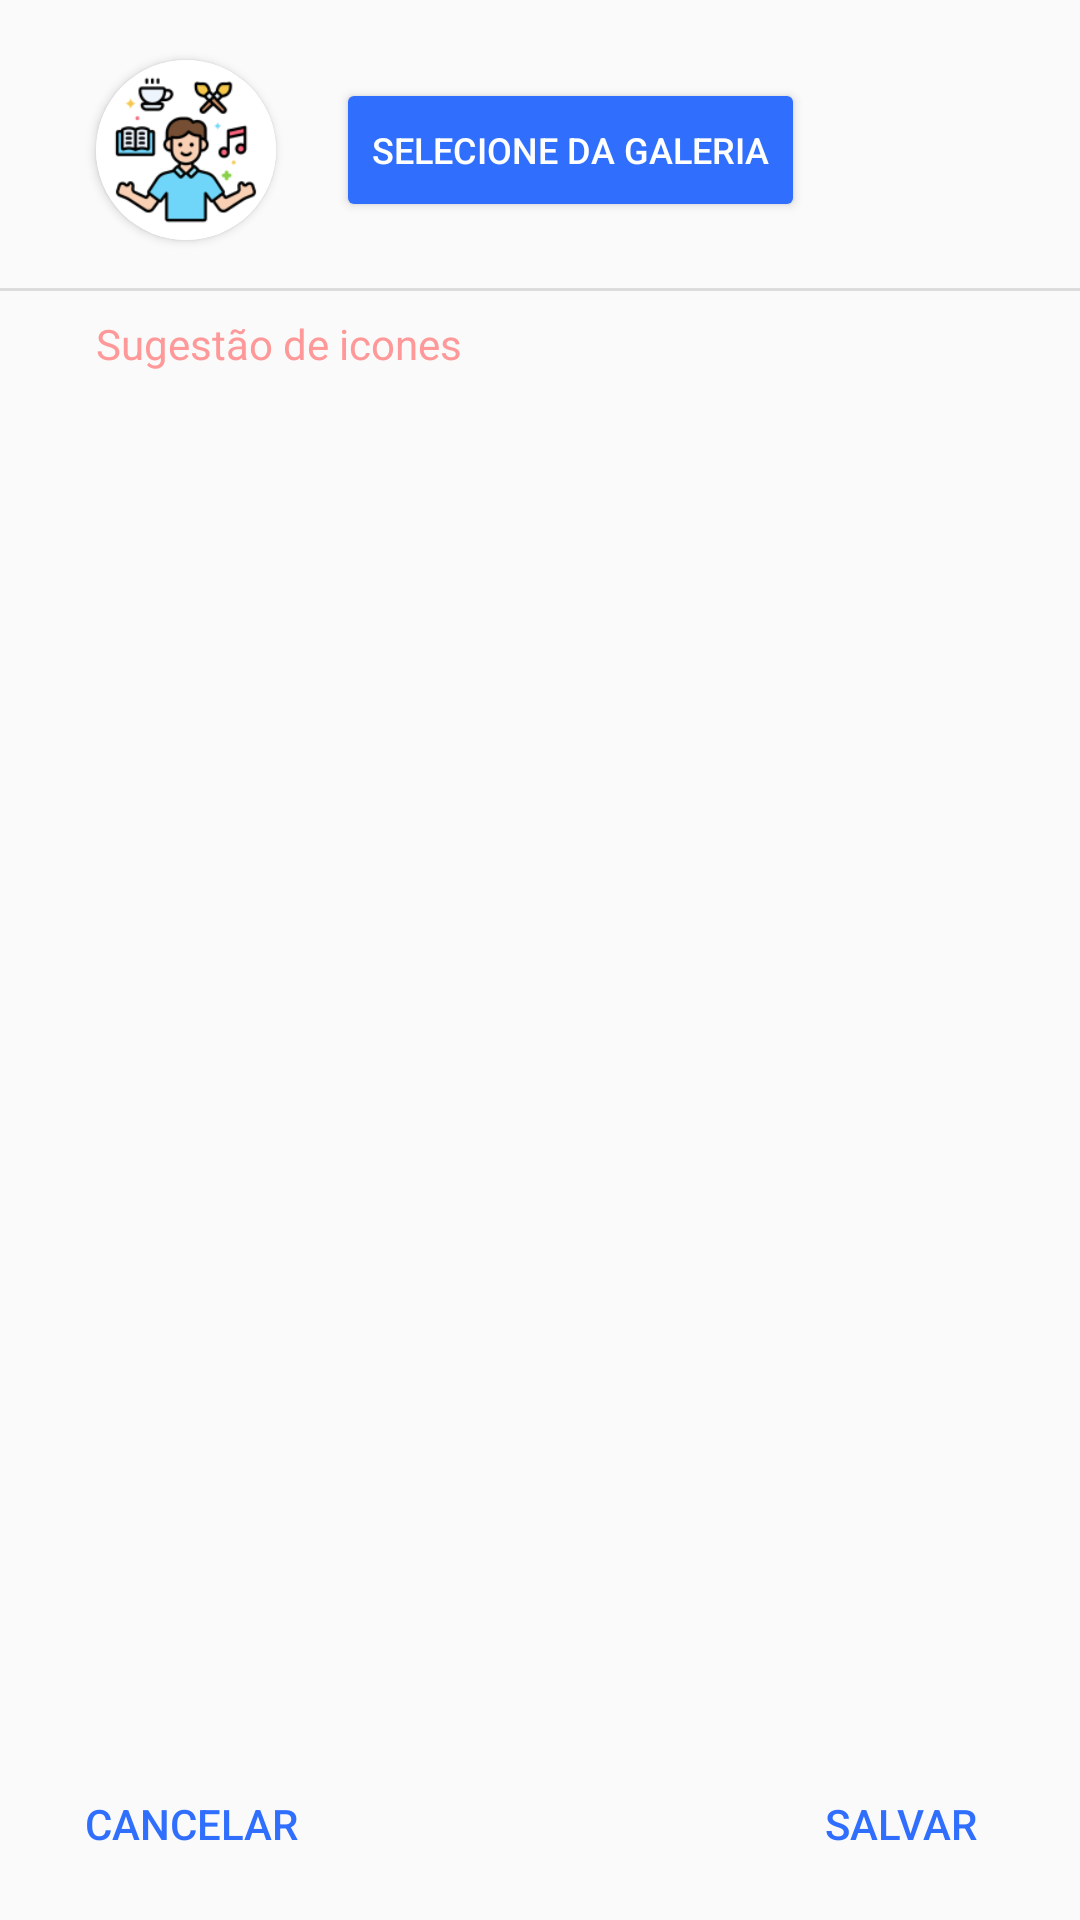

Point at icon controls on the screen. Image size 1080px x 1920px, points as point (x, y).
habit defult: point (176, 151)
